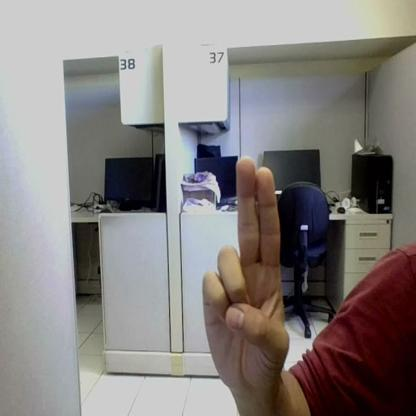U: (203, 158, 290, 381)
